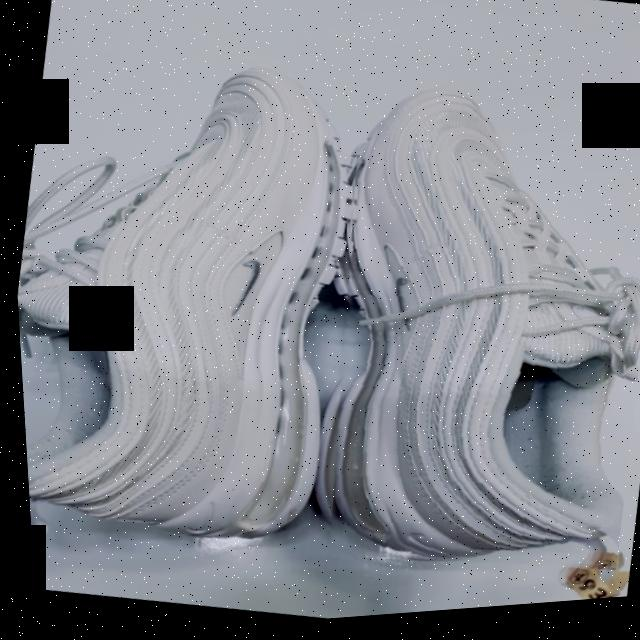shoe: (2, 30, 380, 568), (279, 68, 640, 609)
